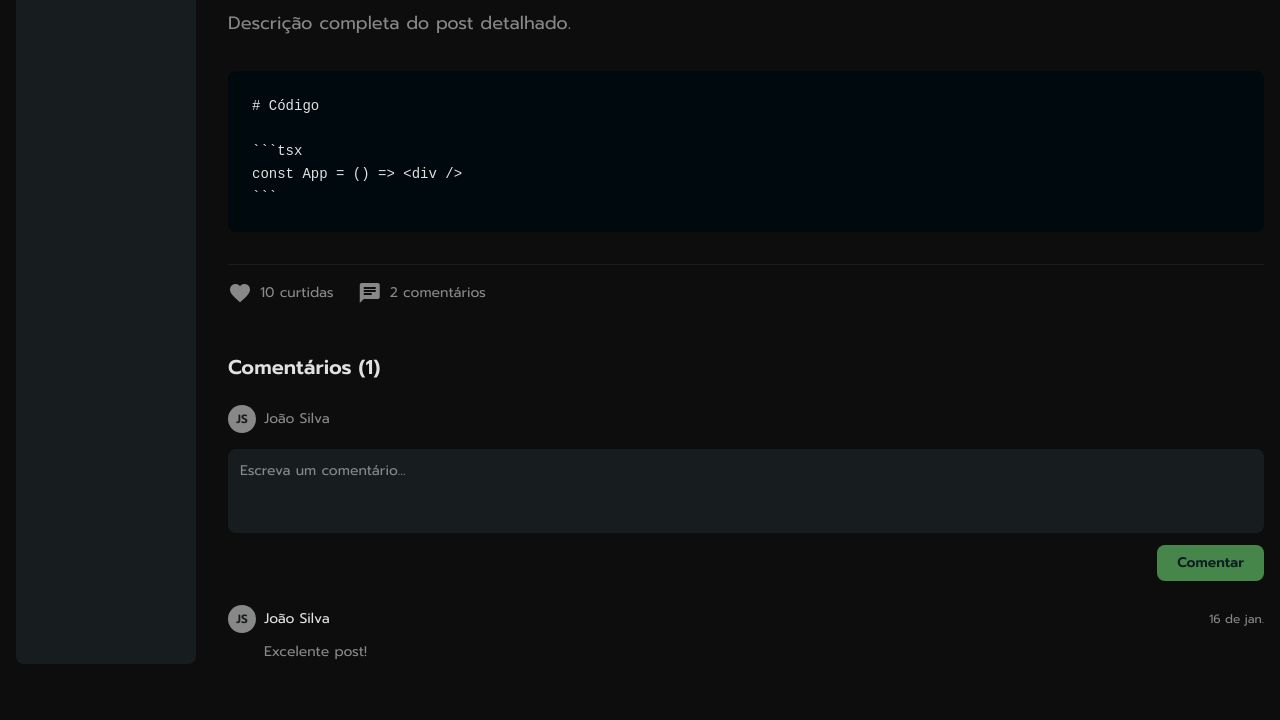
it: PostDetailPage › deve exibir mensagem de erro ao falhar envio de comentário
(page scrolled)
In the text box labelled "Escreva um comentário...": (746, 491) [228,449,1264,533], type "Comentário com erro"
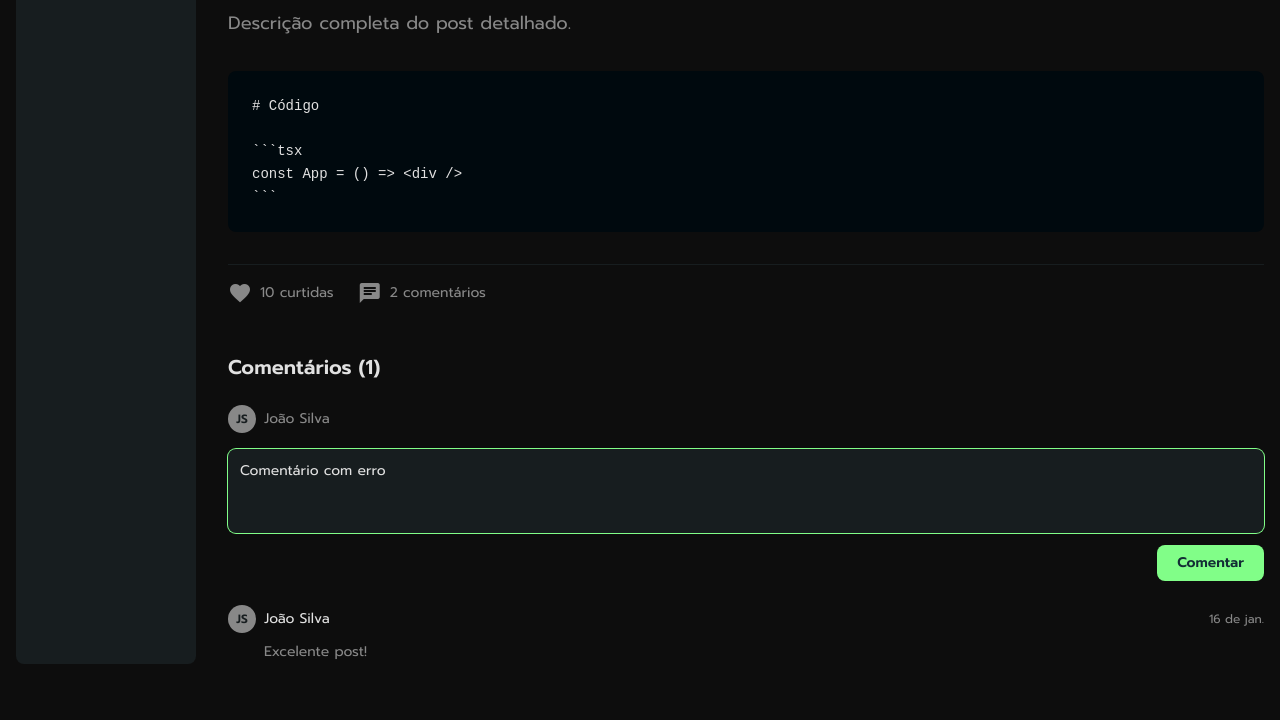
Click the button "Comentar": (1211, 563) [1157,545,1264,581]
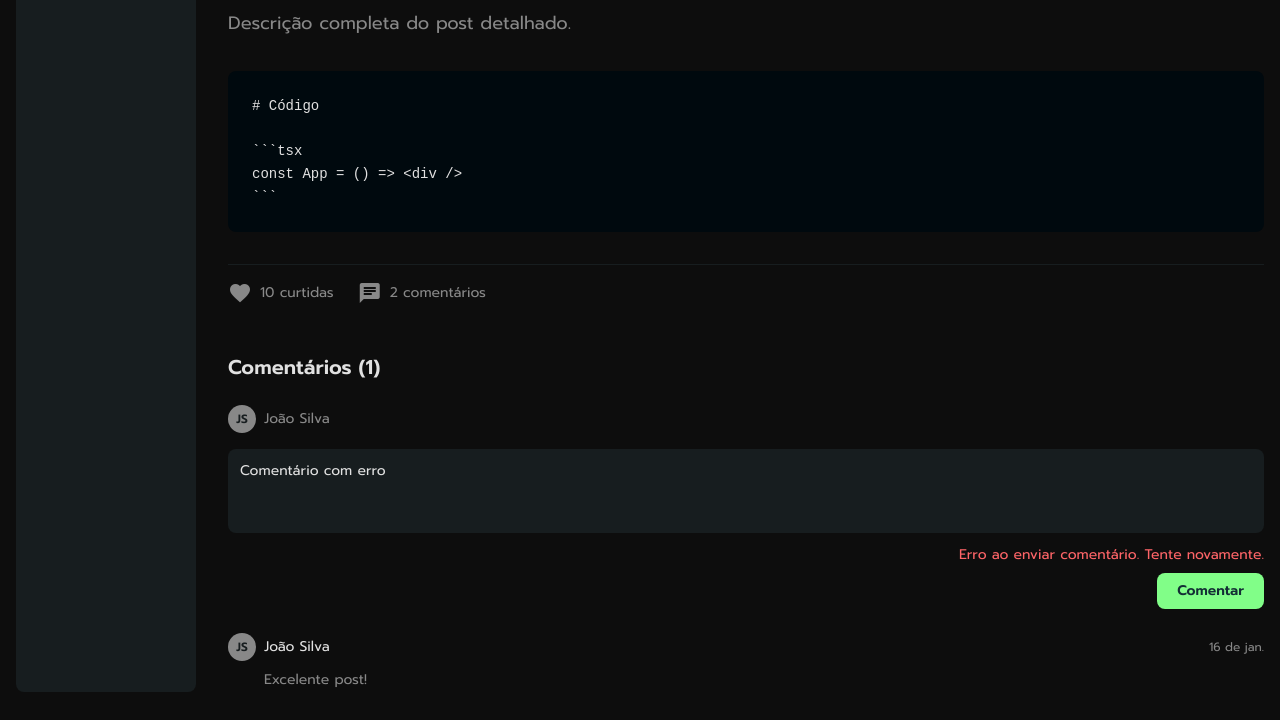
Check: the text "Erro ao enviar comentário. Tente novamente." is shown, box [959,545,1264,565]
